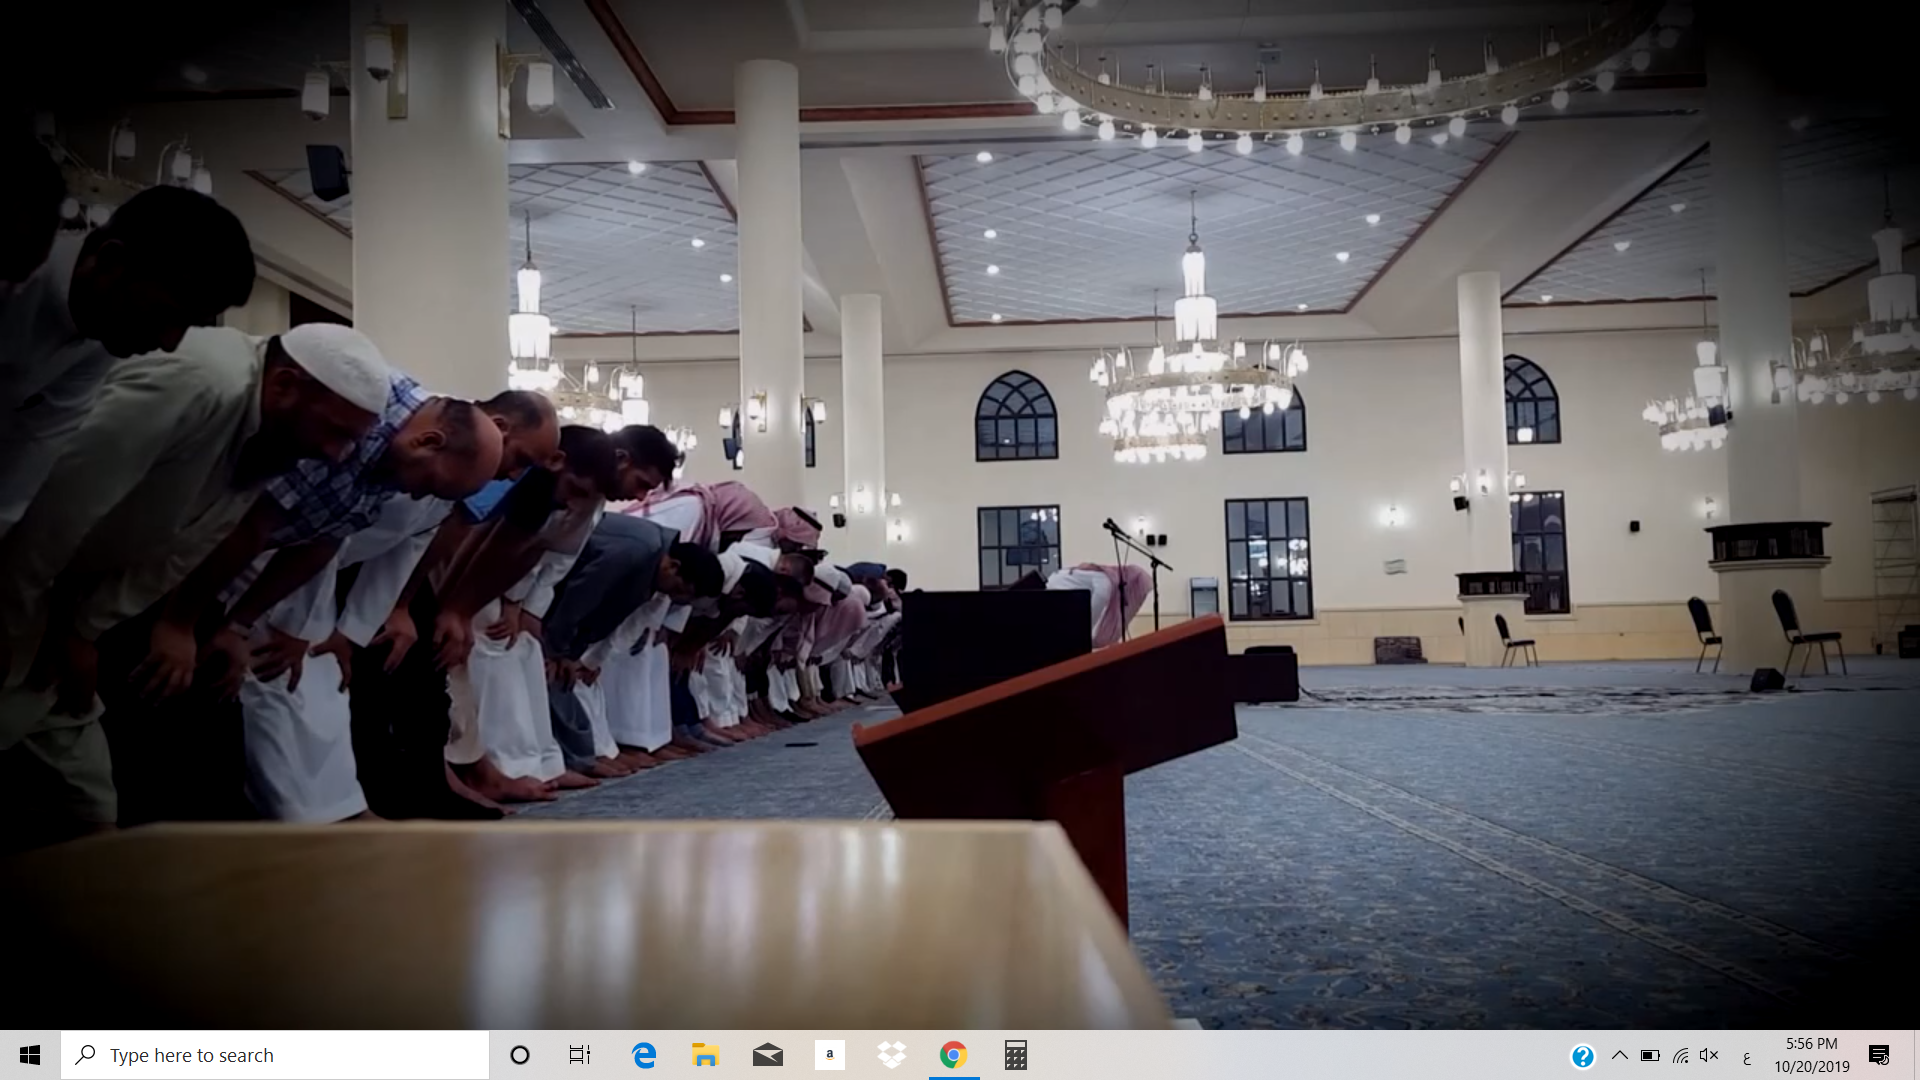ruku: (978, 517, 1187, 695)
